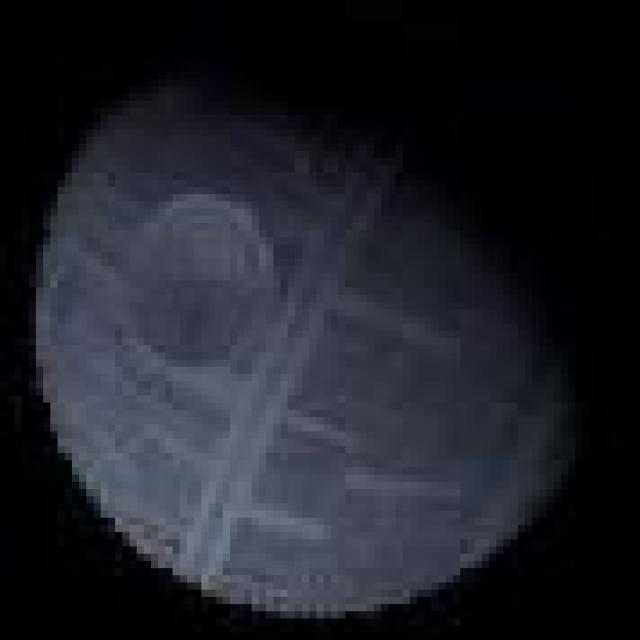Death Star: (22, 64, 575, 626)
